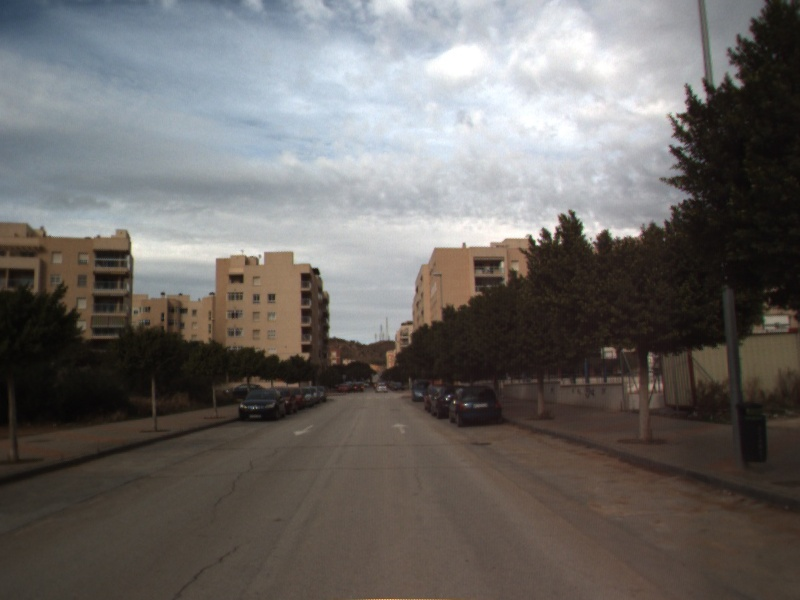STRAIGHT: (389, 421, 411, 436)
